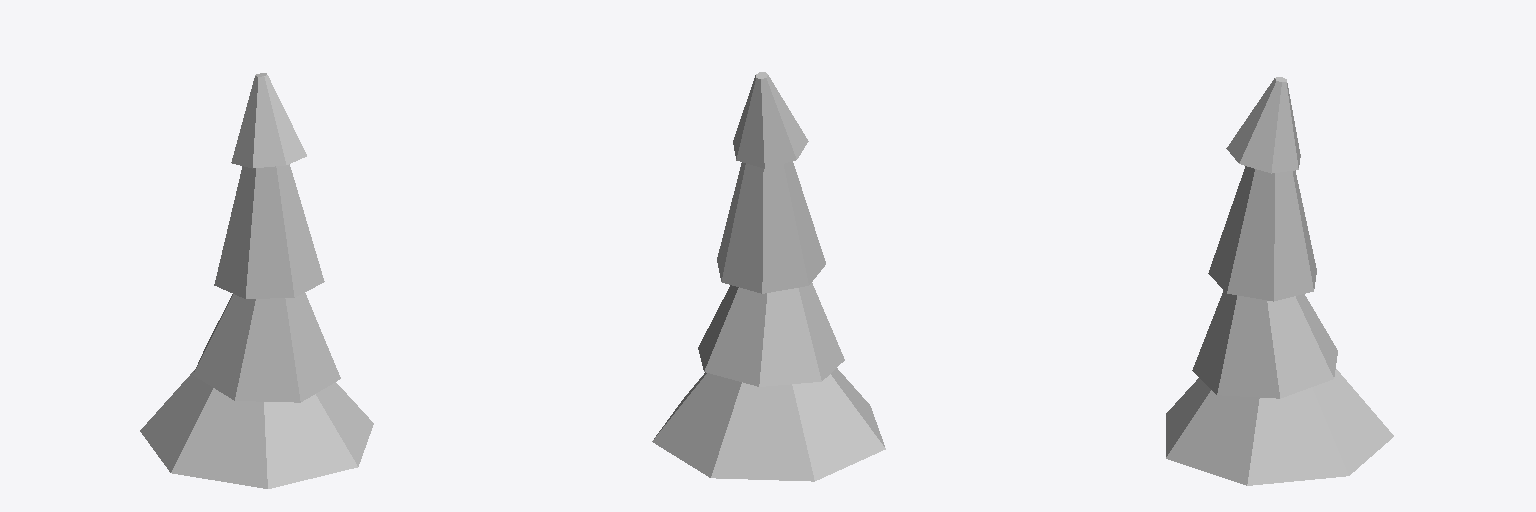
The model's file is pine.obj.
3 views of the same model, side by side, from view 1: azimuth 30°, elevation 25°; view 2: azimuth 150°, elevation 25°; view 3: azimuth 270°, elevation 25° (orthographic).
Visible parts, largest first — view 1: Cylinder; view 2: Cylinder; view 3: Cylinder.
Part boxes in pixels (x1,y1,x2,y2): Cylinder: (140,73,373,488); Cylinder: (652,72,885,481); Cylinder: (1166,77,1393,485).
Size of the model in its own units: 3.61 by 6.12 by 3.52.